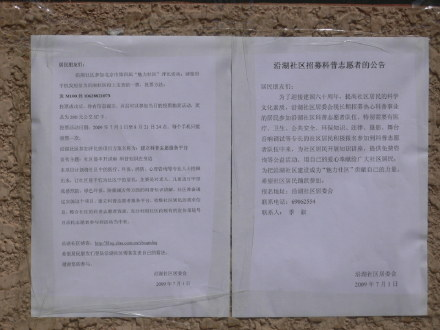bill: (30, 34, 230, 317), (231, 35, 429, 318)
